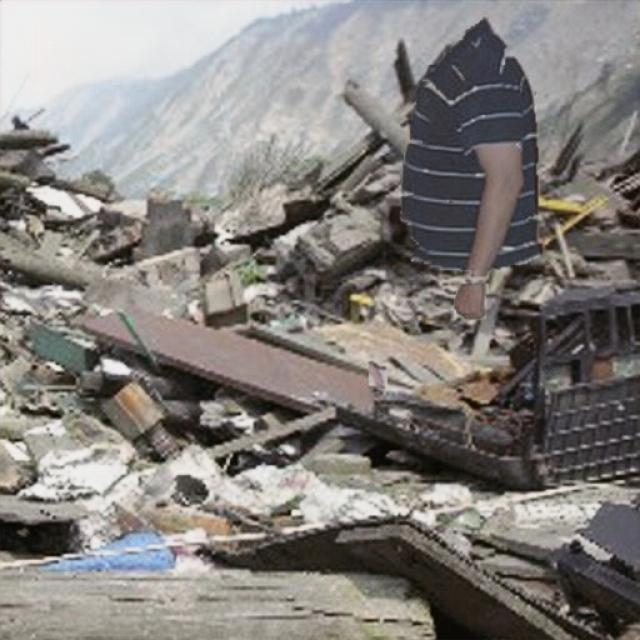Person in Rubble: (368, 18, 542, 390)
